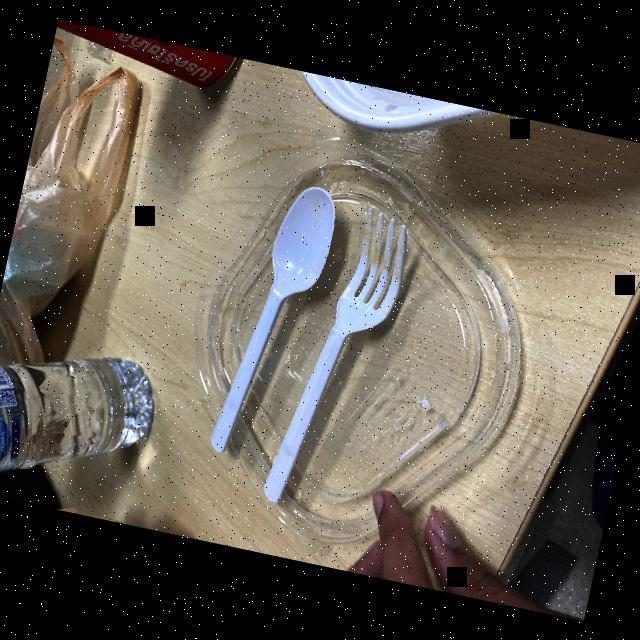plastic_spoon: (230, 189, 414, 532), (193, 165, 354, 478)
